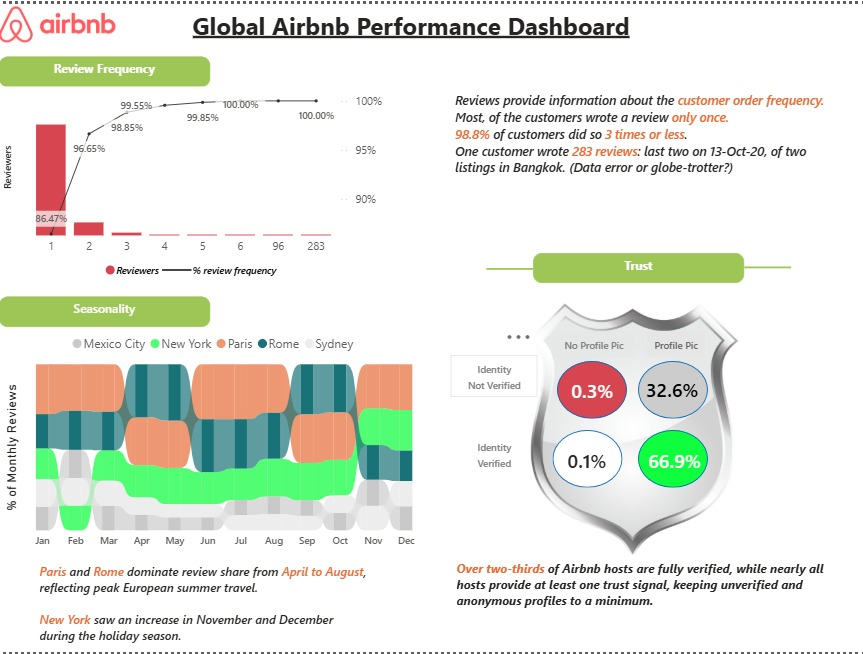

The dashboard page shown, as its layout file describes it:
{"tool":"powerbi","page":{"name":"Reviews","canvas":[960,720],"ordinal":2},"visuals":[{"type":"textbox","box":[210.4,0,539.2,58.3],"z":0},{"type":"shape","box":[620.1,396.3,77.7,64.1],"z":0,"group":"g3"},{"type":"image","box":[0,0,129.5,45.3],"z":1000},{"type":"cardVisual","fields":{"Data":["Listings.NotVerified_NoProfile %"]},"box":[594.2,393.4,132.8,68.4],"z":1000,"group":"g3"},{"type":"textbox","box":[0,58.3,234.8,34],"z":2000},{"type":"lineStackedColumnComboChart","fields":{"Category":["Reviews.Reviews per Reviewer"],"Y2":["Reviews.Cumulative % review frequency"],"Y":["Reviews.Reviewers"]},"box":[0,92.3,430.7,221.8],"z":3000},{"type":"textbox","box":[502,92.3,421,115],"z":4000},{"type":"group","id":"g1","title":"Group 2","box":[542.4,276.9,338.4,33.5],"z":4000,"group":"g5"},{"type":"textbox","box":[594.2,276.9,234.8,33.5],"z":4000,"group":"g1"},{"type":"image","box":[474.4,259.1,458.2,432.3],"z":5000},{"type":"shape","box":[542.4,278.4,51.8,32],"z":5000,"group":"g1"},{"type":"shape","box":[829,276.9,51.8,32],"z":6000,"group":"g1"},{"type":"textbox","box":[502,390.2,97.2,47],"z":6000},{"type":"shape","box":[615.3,473.5,77.7,64.1],"z":7000,"group":"g6"},{"type":"group","id":"g2","title":"Group 1","box":[702.7,473.5,98.8,64.1],"z":7000,"group":"g5"},{"type":"shape","box":[710.6,473.5,77.7,64.1],"z":7000,"group":"g2"},{"type":"textbox","box":[502,476.1,97.2,47],"z":7000},{"type":"group","id":"g3","title":"Group 3","box":[594.2,393.4,132.8,68.4],"z":8000,"group":"g5"},{"type":"textbox","box":[503.6,612.1,419.4,97.2],"z":8000},{"type":"ribbonChart","fields":{"Y":["Reviews.% of Monthly Reviews"],"Series":["Listings.city"],"Category":["Reviews.Review Month"]},"box":[0,356.2,479.3,255.8],"z":9000},{"type":"group","id":"g4","title":"Group 4","box":[697.8,375.9,103.6,104.8],"z":9000,"group":"g5"},{"type":"group","id":"g5","title":"Group 6","box":[542.4,276.9,338.4,260.7],"z":10000},{"type":"group","id":"g6","title":"Group 5","box":[610.4,473.5,87.4,64.1],"z":10000,"group":"g5"},{"type":"textbox","box":[0,325.5,234.8,34],"z":10001},{"type":"cardVisual","fields":{"Data":["Listings.Verified_Profile %"]},"box":[702.7,479.3,98.8,53.9],"z":10001,"group":"g2"},{"type":"textbox","box":[40.5,615.3,378.9,105.2],"z":10002},{"type":"shape","box":[710.8,397.7,77.7,64.1],"z":10003,"group":"g4"},{"type":"cardVisual","fields":{"Data":["Listings.NotVerified_Profile %"]},"box":[697.8,375.9,103.6,104.8],"z":10008,"group":"g4"},{"type":"textbox","box":[615.3,364.3,92.3,29.1],"z":11000,"group":"g5"},{"type":"cardVisual","fields":{"Data":["Listings.Verified_NoProfile %"]},"box":[610.4,476.4,87.4,59.7],"z":11000,"group":"g6"},{"type":"textbox","box":[720.5,364.3,64.8,27.7],"z":12000,"group":"g5"}]}

Visuals, with their boxes in screenshot pixels (x1, y1, x2, y2), scaled from the page's 960x720 canvas onto the 863x654 screenshot:
textbox: 189:0:674:53
shape: 557:360:627:418
image: 0:0:116:41
cardVisual - Listings.NotVerified_NoProfile %: 534:357:654:419
textbox: 0:53:211:84
lineStackedColumnComboChart - Reviews.Reviews per Reviewer x Reviews.Cumulative % review frequency: 0:84:387:285
textbox: 451:84:830:188
"Group 2" group: 488:252:792:282
textbox: 534:252:745:282
image: 426:235:838:628
shape: 488:253:534:282
shape: 745:252:792:281
textbox: 451:354:539:397
shape: 553:430:623:488
"Group 1" group: 632:430:721:488
shape: 639:430:709:488
textbox: 451:432:539:475
"Group 3" group: 534:357:654:419
textbox: 453:556:830:644
ribbonChart - Reviews.% of Monthly Reviews x Listings.city: 0:324:431:556
"Group 4" group: 627:341:720:437
"Group 6" group: 488:252:792:488
"Group 5" group: 549:430:627:488
textbox: 0:296:211:327
cardVisual - Listings.Verified_Profile %: 632:435:721:484
textbox: 36:559:377:653
shape: 639:361:709:419
cardVisual - Listings.NotVerified_Profile %: 627:341:720:437
textbox: 553:331:636:357
cardVisual - Listings.Verified_NoProfile %: 549:433:627:487
textbox: 648:331:706:356
